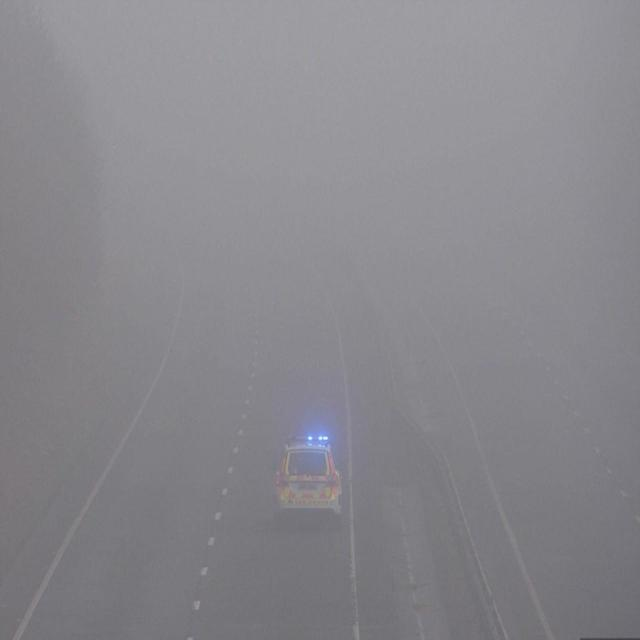Car: (274, 435, 343, 522)
